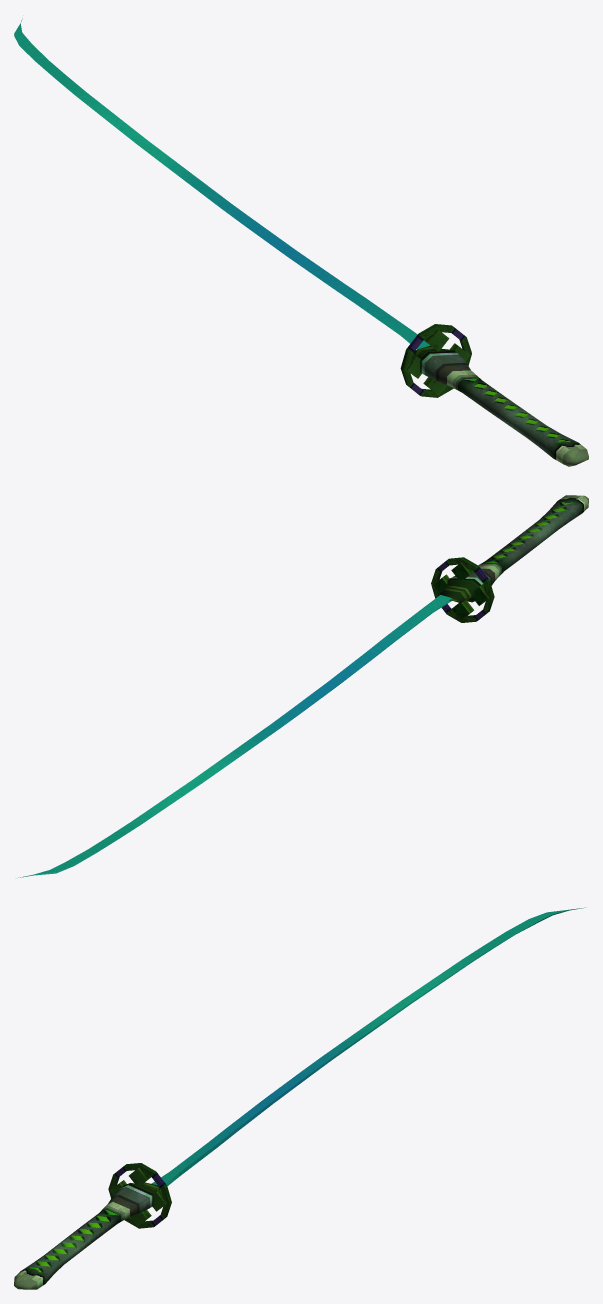
Rendered from sword_usumidori_usumidori_simple.glb.
3 views of the same model, one above another, from view 1: azimuth 30°, elevation 25°; view 2: azimuth 150°, elevation 25°; view 3: azimuth 330°, elevation 25° (orthographic). The views are drawn at different scales.
Size of the model in its own units: 0.11 by 0.0941 by 1.42.
1 material, 1 textured.
